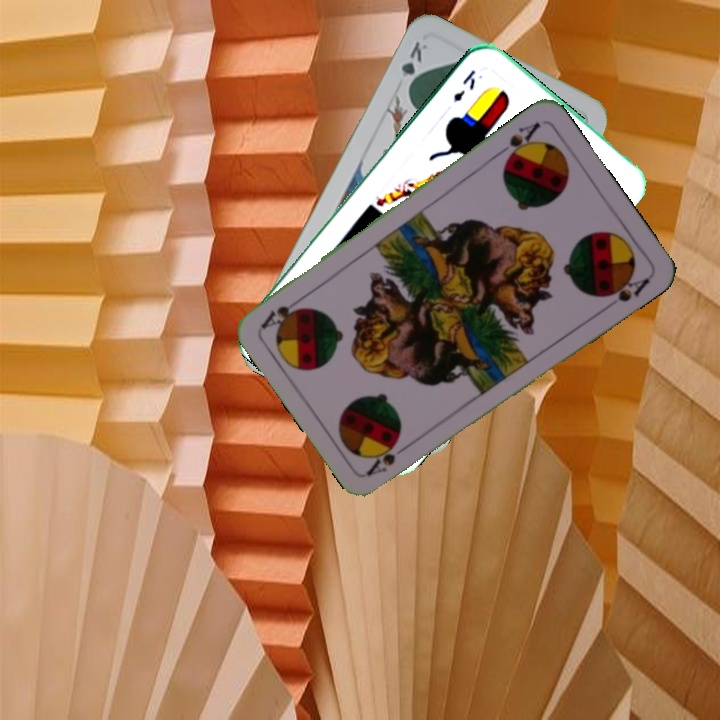EK: (449, 65, 479, 105)
GK: (397, 37, 430, 94)
SA: (492, 117, 544, 165), (362, 438, 415, 478)
